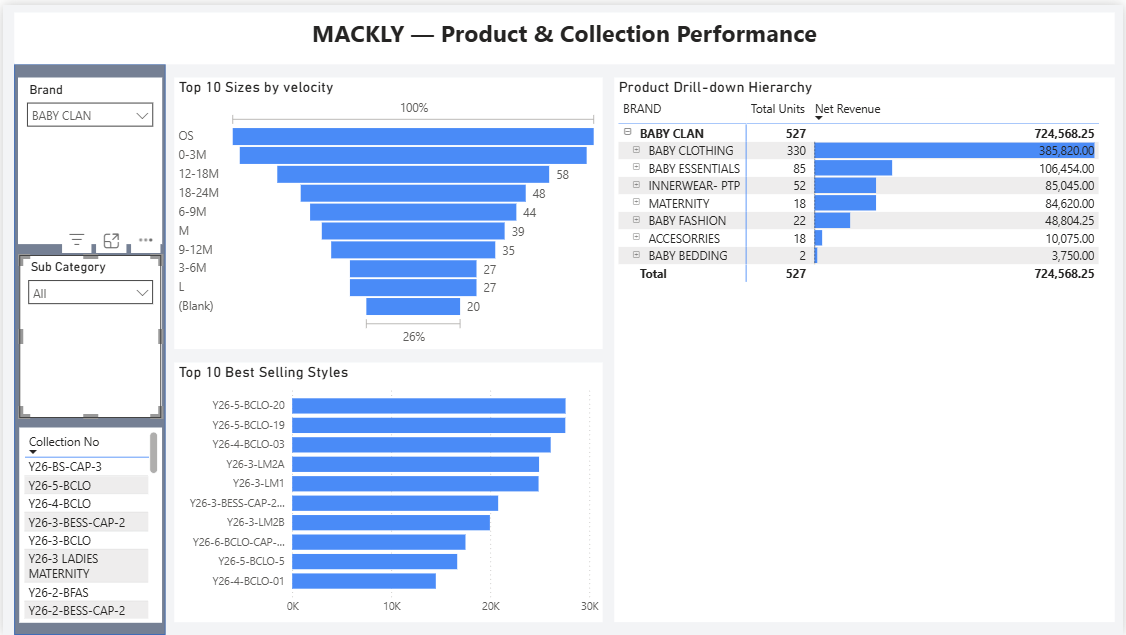

The dashboard page shown, as its layout file describes it:
{"tool":"powerbi","page":{"name":"Product and Brand Analytics","canvas":[1280,720],"ordinal":1},"visuals":[{"type":"shape","box":[12.3,67.5,173,652.8],"z":0},{"type":"slicer","fields":{"Values":["Data.BRAND"]},"box":[17.2,83.4,164.4,190.2],"z":1000},{"type":"slicer","fields":{"Values":["Data.SubCategory"]},"box":[18.4,285.9,163.2,185.3],"z":2000},{"type":"tableEx","fields":{"Values":["Data.CollectionNo"]},"box":[18.4,482.2,163.2,223.3],"z":3000},{"type":"funnel","title":"Top 10 Sizes by velocity ","fields":{"Category":["Data.SIZE"],"Y":["Sum(Data.QTY)"]},"box":[196.3,83.4,489.6,310.4],"z":4000},{"type":"clusteredBarChart","title":"Top 10 Best Selling Styles","fields":{"Category":["Data.StyleNo"],"Y":["Sum(Data.net sale)"]},"box":[196.3,408.6,489.6,296.9],"z":5000},{"type":"pivotTable","title":"Product Drill-down Hierarchy","fields":{"Rows":["Data.BRAND","Data.SubCategory","Data.ItemName"],"Values":["Sum(Data.QTY)","Sum(Data.net sale)"]},"box":[698.2,83.4,571.8,622.1],"z":6000},{"type":"textbox","box":[12.3,8.6,1257.7,58.9],"z":7000}]}

Visuals, with their boxes in screenshot pixels (x1, y1, x2, y2), scaled from the page's 1280x720 canvas onto the 1126x635 screenshot:
shape: 11:60:163:634
slicer - Data.BRAND: 15:74:160:241
slicer - Data.SubCategory: 16:252:160:416
tableEx - Data.CollectionNo: 16:425:160:622
"Top 10 Sizes by velocity " funnel: 173:74:603:347
"Top 10 Best Selling Styles" clusteredBarChart: 173:360:603:622
"Product Drill-down Hierarchy" pivotTable: 614:74:1117:622
textbox: 11:8:1117:60
